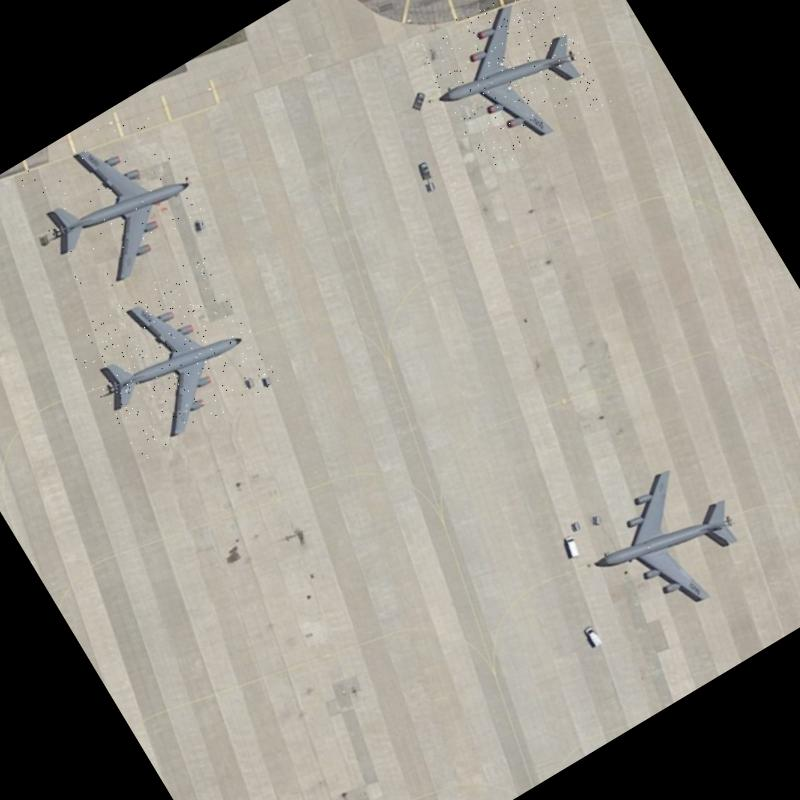A14: (61, 251, 281, 466), (560, 435, 774, 646), (12, 100, 218, 304), (409, 0, 613, 175)
